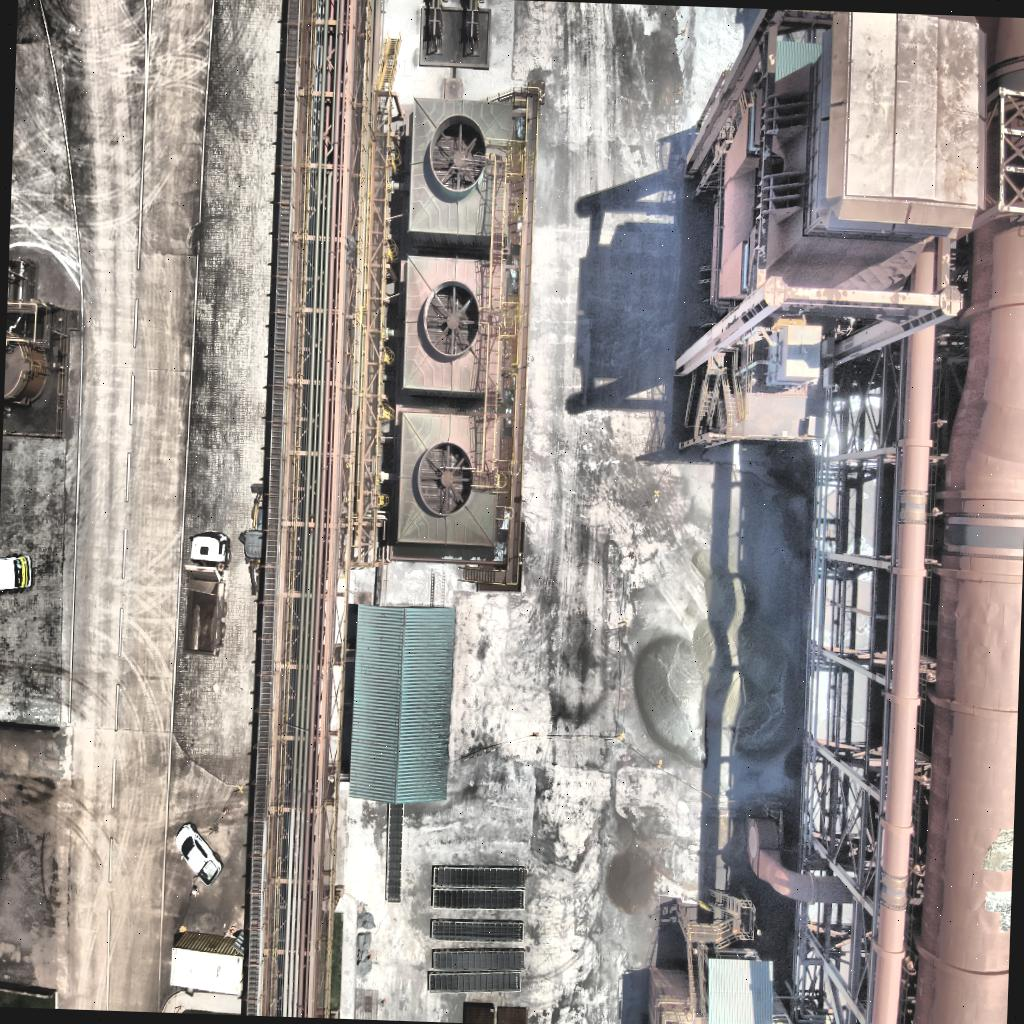Failures: (980, 826, 1014, 872), (982, 890, 1010, 932)
